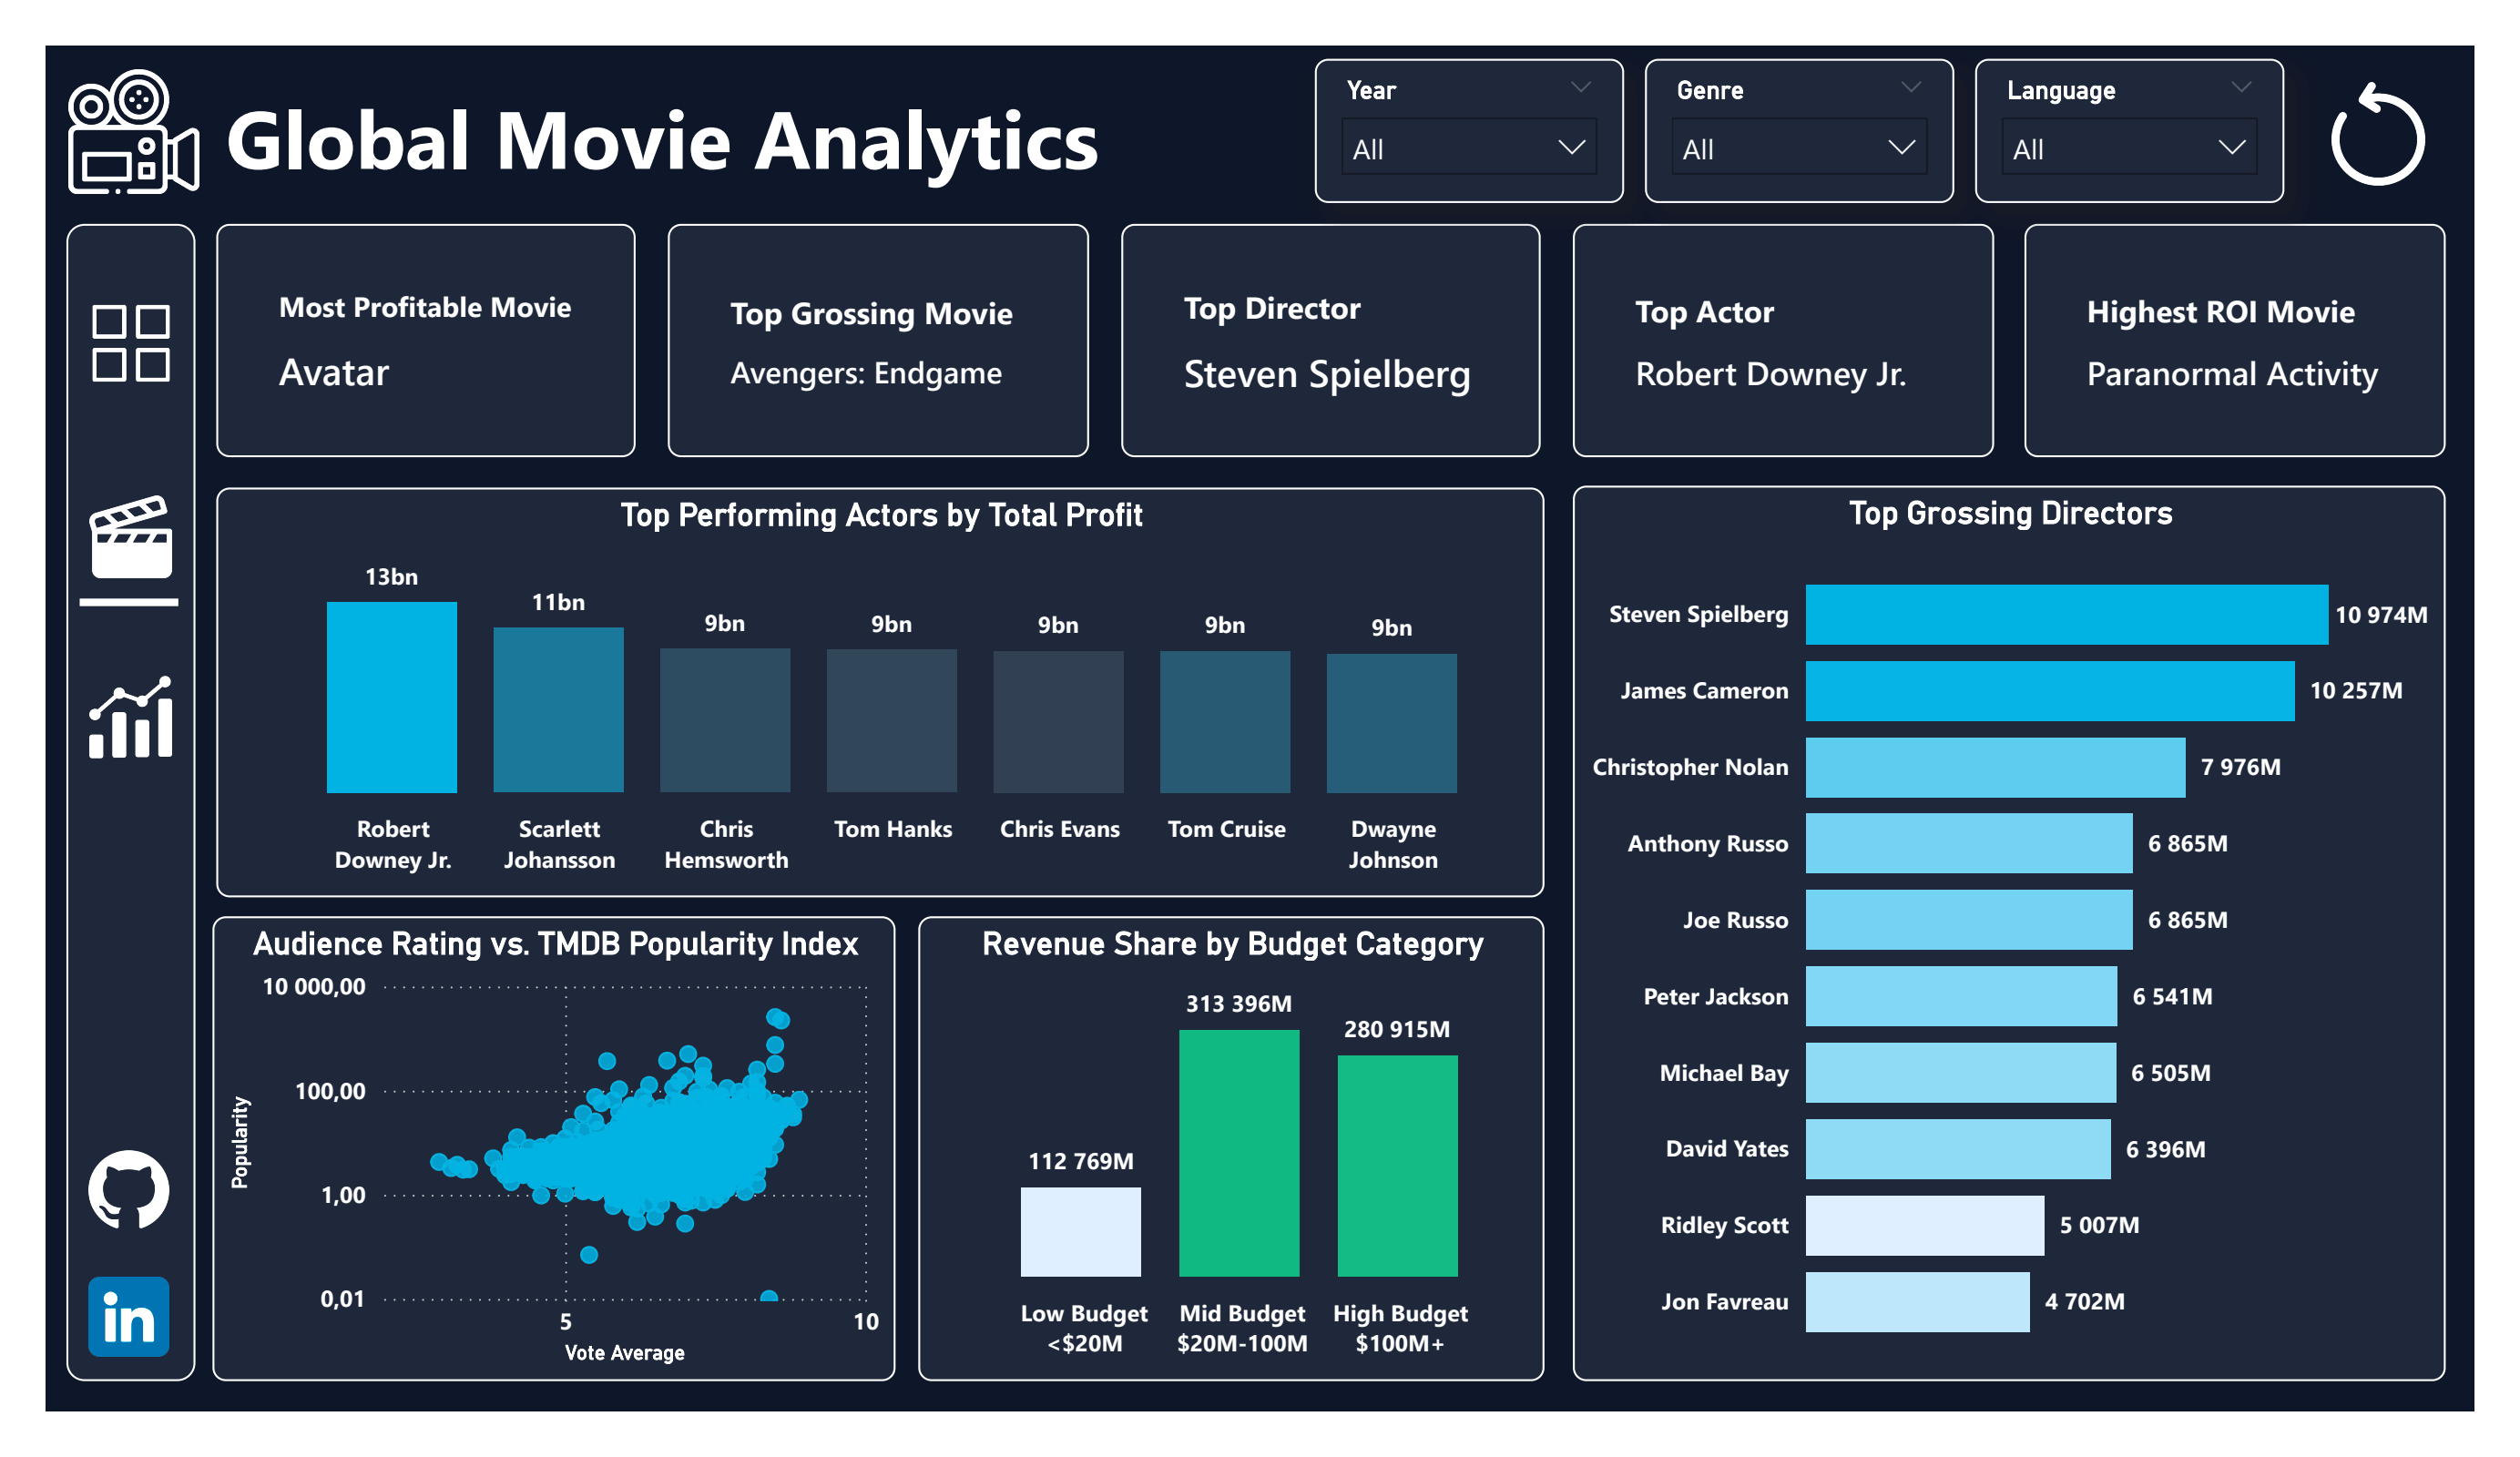

This screenshot's page, from the dashboard's own definition file:
{"tool":"powerbi","page":{"name":"Talent & Performance","canvas":[1280,720],"ordinal":1},"visuals":[{"type":"cardVisual","fields":{"Data":["_Measures.Most Profitable Movie"]},"box":[90,93.9,221.5,123.4],"z":0},{"type":"cardVisual","fields":{"Data":["_Measures.Top Grossing Movie"]},"box":[328.4,93.9,221.5,123.4],"z":1000},{"type":"cardVisual","fields":{"Data":["_Measures.Top Director"]},"box":[566.7,93.9,221.5,123.4],"z":2000},{"type":"cardVisual","fields":{"Data":["_Measures.Top Actor"]},"box":[805.1,93.9,221.5,123.4],"z":3000},{"type":"cardVisual","fields":{"Data":["_Measures.Highest ROI Movie"]},"box":[1043.5,93.9,221.5,123.4],"z":4000},{"type":"slicer","fields":{"Values":["dim_date.year"]},"box":[668.7,7.4,163.5,75.9],"z":5000},{"type":"slicer","fields":{"Values":["dim_genres.genre_name"]},"box":[842.7,7.4,163.5,75.9],"z":6000},{"type":"slicer","fields":{"Values":["vw_fact_movies_unique.original_language"]},"box":[1016.7,7.4,163.5,75.9],"z":7000},{"type":"clusteredBarChart","title":"Top Grossing Directors","fields":{"Category":["dim_directors.director_name"],"Y":["_Measures.Total Revenue"]},"box":[804.7,232,460.4,472.5],"z":8000},{"type":"clusteredColumnChart","title":"Top Performing Actors by Total Profit","fields":{"Y":["_Measures.Total Profit"],"Category":["dim_cast.actor_name"]},"box":[90.5,232.6,699.4,216.8],"z":9000},{"type":"shape","box":[10.9,94.2,67.7,610.2],"z":10000},{"type":"scatterChart","title":"Audience Rating vs. TMDB Popularity Index","fields":{"X":["Avg(vw_fact_movies_unique.vote_average)"],"Y":["Sum(vw_fact_movies_unique.popularity)"],"Category":["vw_fact_movies_unique.title"]},"box":[88.2,459.2,360.1,245.3],"z":11000},{"type":"image","box":[10.5,236.3,67.5,45.4],"z":12000},{"type":"image","box":[10.5,126.6,67.5,60.1],"z":13000},{"type":"image","box":[10.5,331.2,67.5,45.4],"z":14000},{"type":"shape","box":[17.9,281.6,51.7,23.2],"z":15000},{"type":"image","box":[1193.9,12.7,70.7,67.5],"z":16000},{"type":"image","box":[23.2,578,42.2,49.6],"z":17000},{"type":"image","box":[23.2,645.5,42.2,49.6],"z":18000},{"type":"image","box":[3.2,10.5,86.5,69.6],"z":19000},{"type":"textbox","box":[89.6,13.7,510.5,69.6],"z":20000},{"type":"columnChart","title":"Revenue Share by Budget Category","fields":{"Category":["vw_fact_movies_unique.Budget Category"],"Y":["_Measures.Total Revenue"]},"box":[460.4,459.2,329.9,245.3],"z":21000}]}

Visuals, with their boxes on the page's 1280x720 design canvas (x1, y1, x2, y2). These are canvas units, not pixel positions in the 2520x1457 screenshot, which may show the page scaled, cropped or inside an application window:
cardVisual - _Measures.Most Profitable Movie: <bbox>90, 94, 312, 217</bbox>
cardVisual - _Measures.Top Grossing Movie: <bbox>328, 94, 550, 217</bbox>
cardVisual - _Measures.Top Director: <bbox>567, 94, 788, 217</bbox>
cardVisual - _Measures.Top Actor: <bbox>805, 94, 1027, 217</bbox>
cardVisual - _Measures.Highest ROI Movie: <bbox>1044, 94, 1265, 217</bbox>
slicer - dim_date.year: <bbox>669, 7, 832, 83</bbox>
slicer - dim_genres.genre_name: <bbox>843, 7, 1006, 83</bbox>
slicer - vw_fact_movies_unique.original_language: <bbox>1017, 7, 1180, 83</bbox>
"Top Grossing Directors" clusteredBarChart: <bbox>805, 232, 1265, 704</bbox>
"Top Performing Actors by Total Profit" clusteredColumnChart: <bbox>90, 233, 790, 449</bbox>
shape: <bbox>11, 94, 79, 704</bbox>
"Audience Rating vs. TMDB Popularity Index" scatterChart: <bbox>88, 459, 448, 704</bbox>
image: <bbox>10, 236, 78, 282</bbox>
image: <bbox>10, 127, 78, 187</bbox>
image: <bbox>10, 331, 78, 377</bbox>
shape: <bbox>18, 282, 70, 305</bbox>
image: <bbox>1194, 13, 1265, 80</bbox>
image: <bbox>23, 578, 65, 628</bbox>
image: <bbox>23, 646, 65, 695</bbox>
image: <bbox>3, 10, 90, 80</bbox>
textbox: <bbox>90, 14, 600, 83</bbox>
"Revenue Share by Budget Category" columnChart: <bbox>460, 459, 790, 704</bbox>
